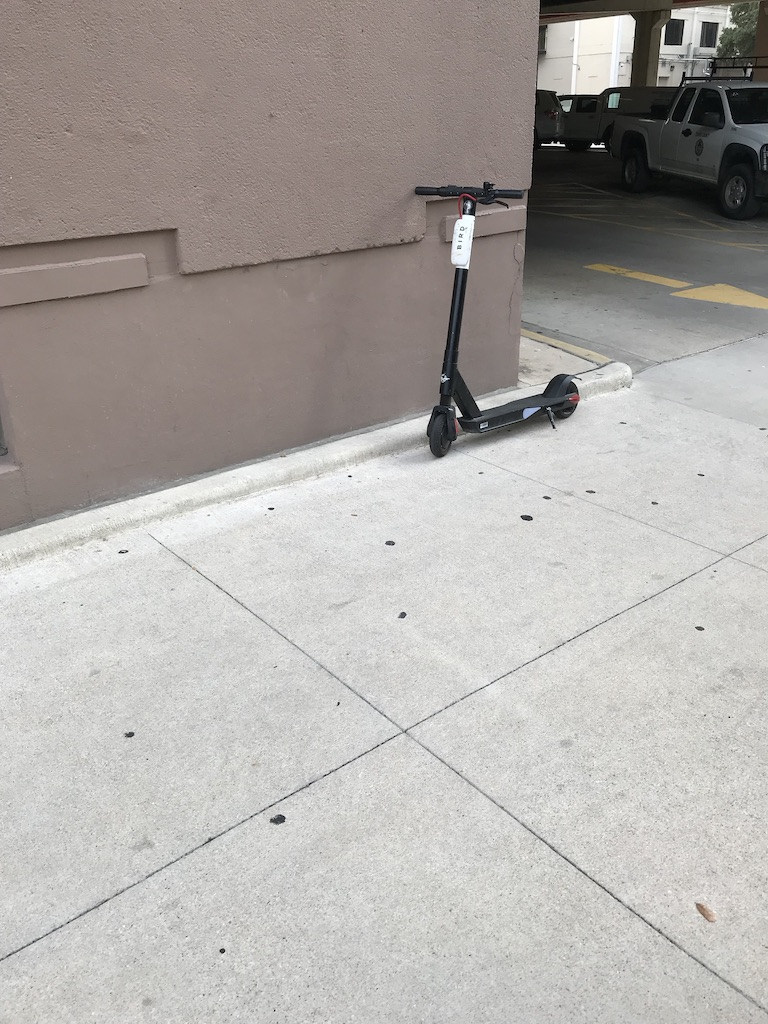scooter: (416, 183, 581, 458)
